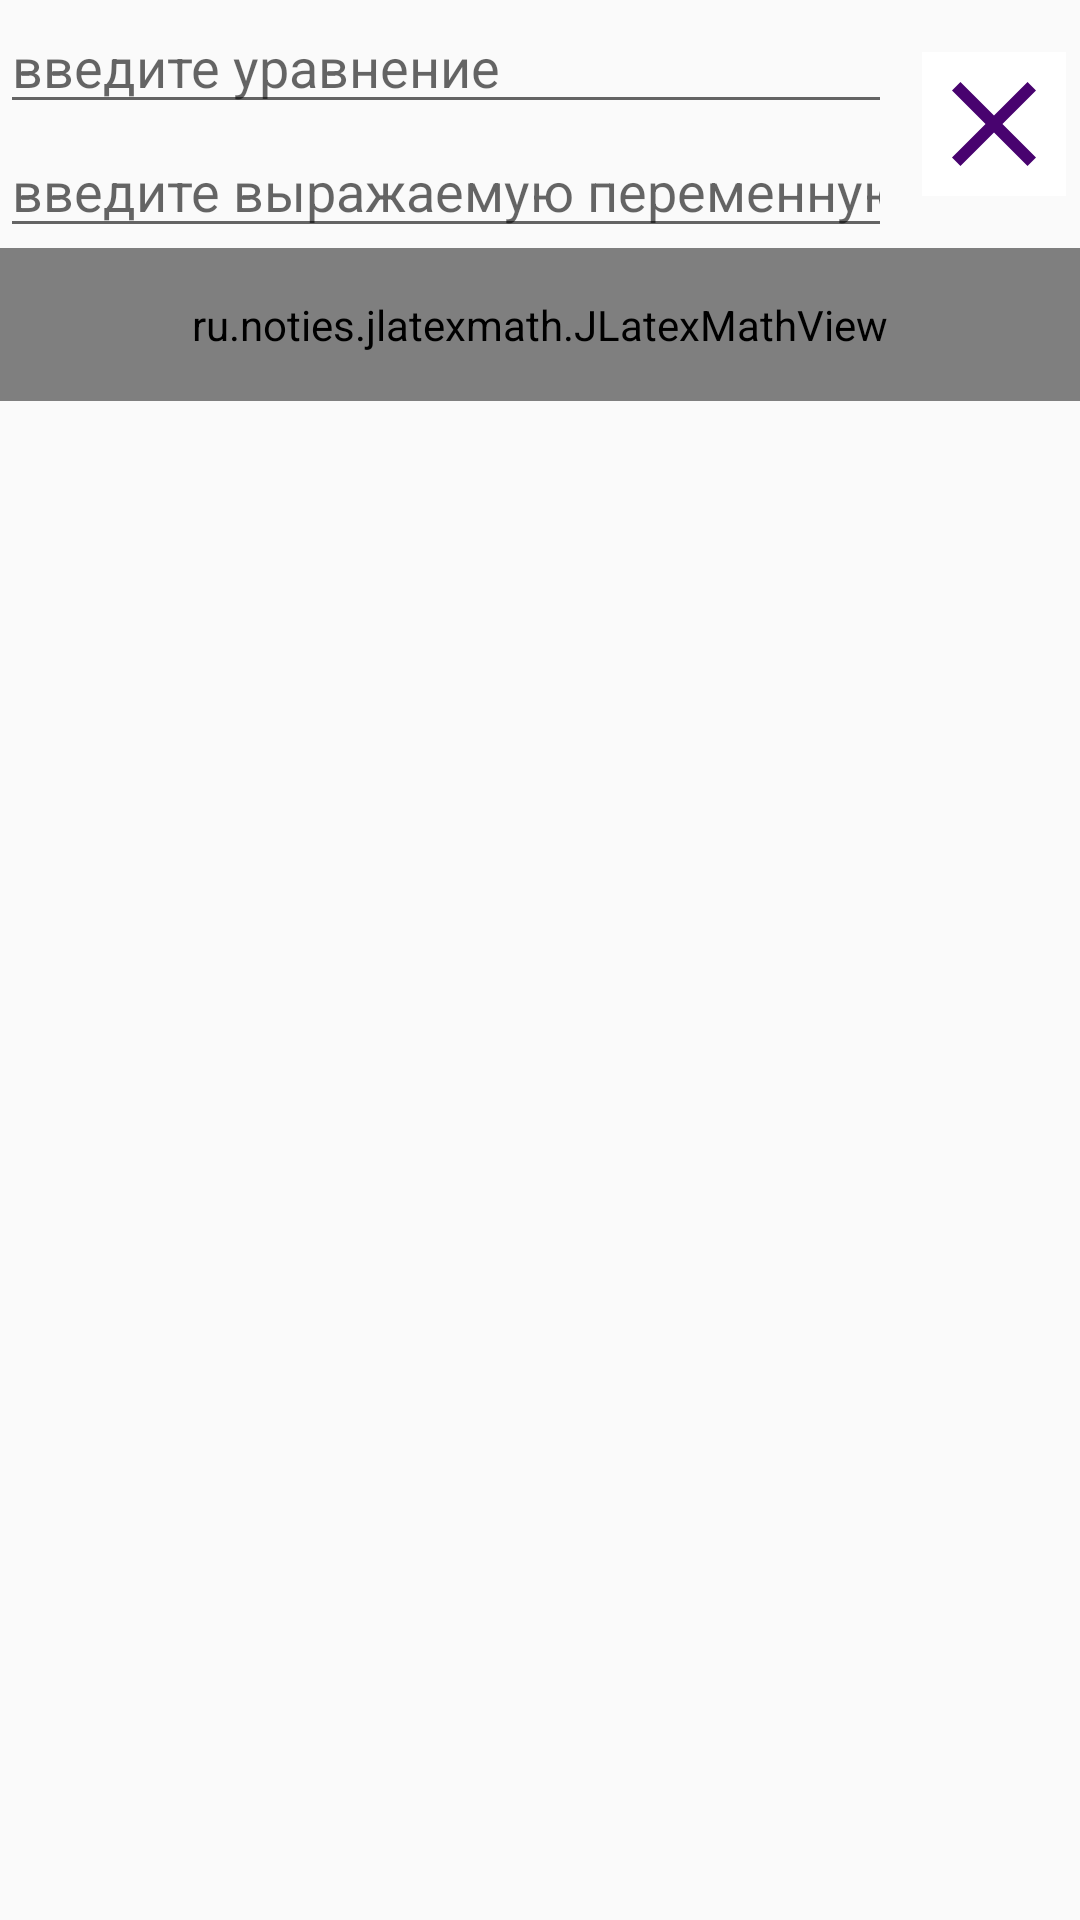

Point at icon controls on the screen. Image size 1080×1920, points as (x,y).
clear input: (994,124)
